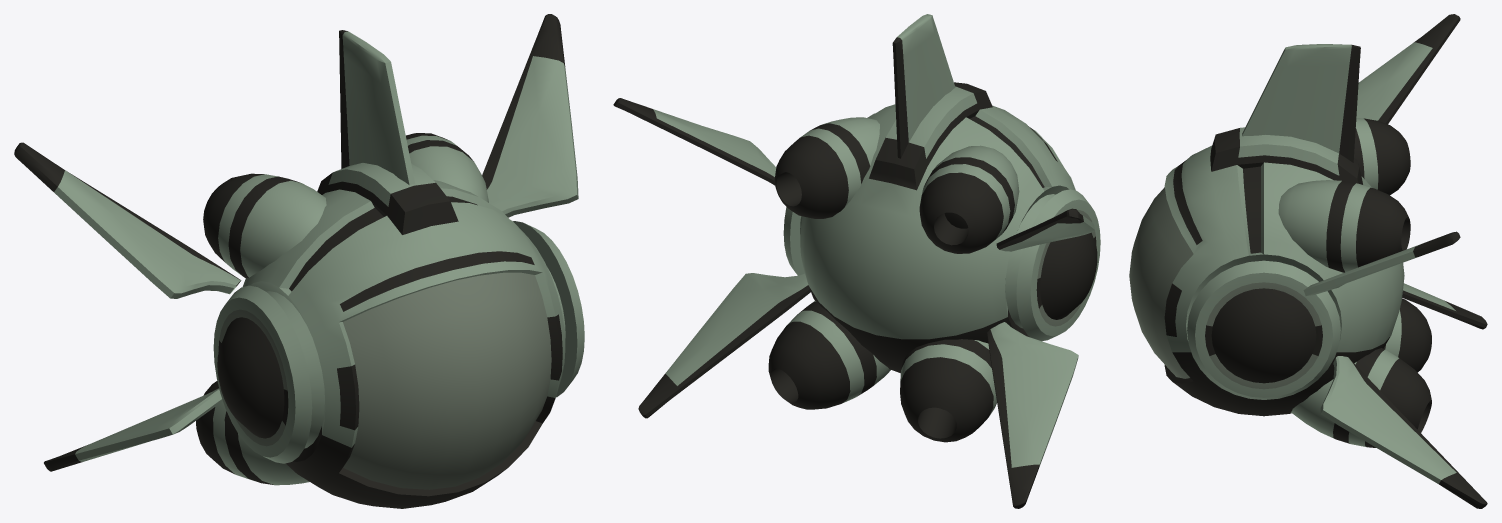
File: quaternius-ultimate-space-pack-spaceship-barbara-the-bee-transformed.glb
3 renders of one model, left to right at view 1: azimuth 30°, elevation 25°; view 2: azimuth 150°, elevation 25°; view 3: azimuth 270°, elevation 25°, orthographic. The views are drawn at different scales.
Visible parts, largest first — view 1: Spaceship_BarbaraTheBee; view 2: Spaceship_BarbaraTheBee; view 3: Spaceship_BarbaraTheBee.
Part boxes in pixels (x1,y1,x2,y2): Spaceship_BarbaraTheBee: (14, 14, 584, 508); Spaceship_BarbaraTheBee: (613, 14, 1100, 508); Spaceship_BarbaraTheBee: (1129, 14, 1487, 508).
Bounding box in the file's own units: 7.34 × 5.7 × 4.96.
Materials: 1 (1 with a texture image).
